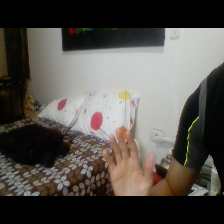left: (97, 124, 162, 196)
